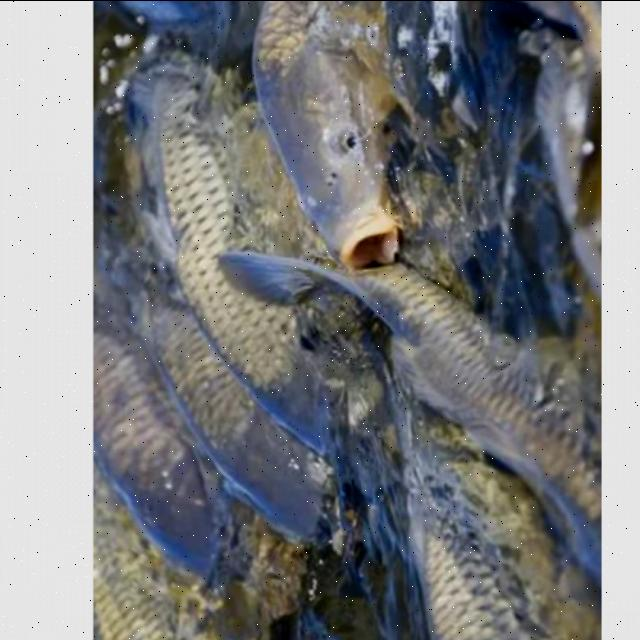Mulut: (326, 202, 422, 290)
Sirip Ekor: (202, 236, 338, 326)
